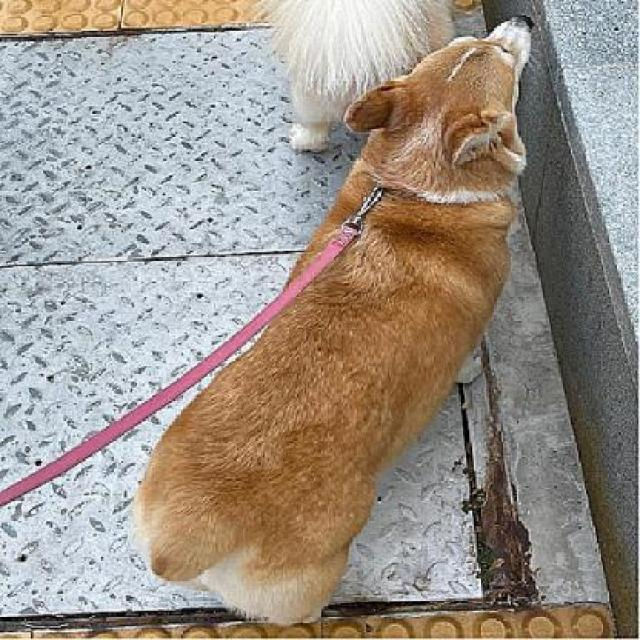Dog: (132, 11, 540, 632)
